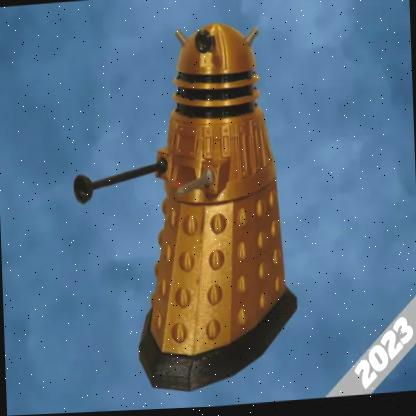dalek: (53, 0, 330, 407)
